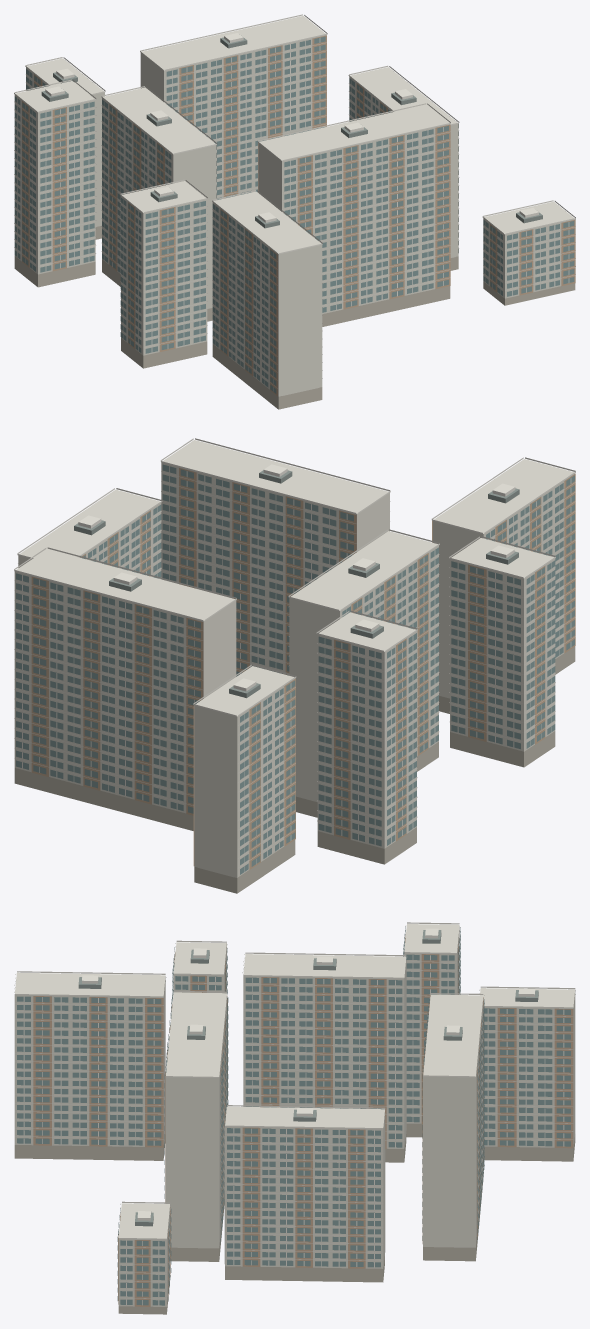
The model's file is representative-a12282203.glb.
The picture shows the model from 3 angles, top to bottom: view 1: azimuth 30°, elevation 25°; view 2: azimuth 150°, elevation 25°; view 3: azimuth 270°, elevation 25°; orthographic projection. The views are drawn at different scales.
Parts seen in each view (by area): view 1: A12282203_wall001, A12282203_glass001, A12282203_trim001, A12282203_accent001, A12282203_base001, A12282203_roof001; view 2: A12282203_wall001, A12282203_glass001, A12282203_trim001, A12282203_accent001, A12282203_base001, A12282203_roof001; view 3: A12282203_wall001, A12282203_glass001, A12282203_accent001, A12282203_trim001, A12282203_base001, A12282203_roof001.
Part boxes in pixels (x1=…): A12282203_wall001: x1=14, y1=15, x2=574, y2=396; A12282203_glass001: x1=14, y1=36, x2=575, y2=393; A12282203_trim001: x1=14, y1=14, x2=575, y2=391; A12282203_accent001: x1=22, y1=35, x2=575, y2=396; A12282203_base001: x1=14, y1=225, x2=575, y2=409; A12282203_roof001: x1=41, y1=34, x2=542, y2=228; A12282203_wall001: x1=14, y1=440, x2=574, y2=877; A12282203_glass001: x1=16, y1=464, x2=574, y2=874; A12282203_trim001: x1=14, y1=438, x2=575, y2=871; A12282203_accent001: x1=31, y1=468, x2=575, y2=869; A12282203_base001: x1=14, y1=646, x2=575, y2=893; A12282203_roof001: x1=74, y1=470, x2=519, y2=698; A12282203_wall001: x1=14, y1=924, x2=575, y2=1306; A12282203_glass001: x1=17, y1=926, x2=570, y2=1305; A12282203_accent001: x1=33, y1=934, x2=573, y2=1306; A12282203_trim001: x1=14, y1=922, x2=575, y2=1305; A12282203_base001: x1=14, y1=1123, x2=575, y2=1314; A12282203_roof001: x1=78, y1=930, x2=538, y2=1226.
Bounding box in the file's own units: 132 × 56 × 149.
